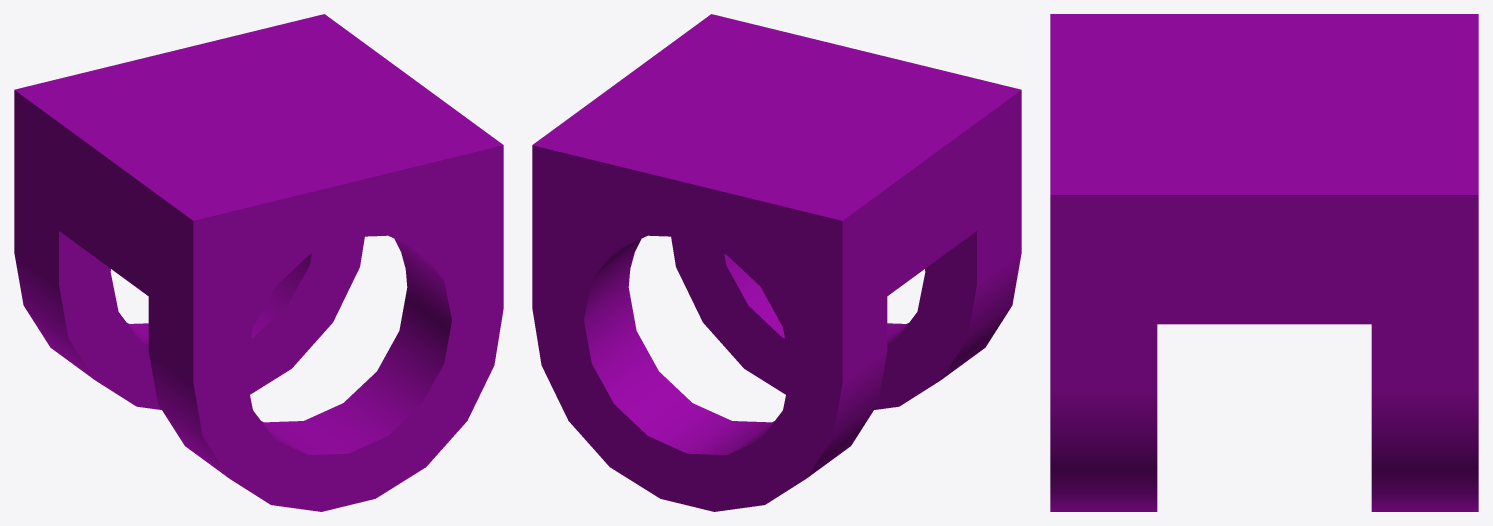
3 views of the same model, side by side, from view 1: azimuth 30°, elevation 25°; view 2: azimuth 150°, elevation 25°; view 3: azimuth 270°, elevation 25° (orthographic). The views are drawn at different scales.
Parts seen in each view (by area): view 1: SOLID; view 2: SOLID; view 3: SOLID.
Part boxes in pixels (x1,y1,x2,y2): SOLID: [14, 14, 503, 511]; SOLID: [532, 14, 1021, 511]; SOLID: [1050, 14, 1478, 511].
Size of the model in its own units: 0.06 by 0.0595 by 0.06.
